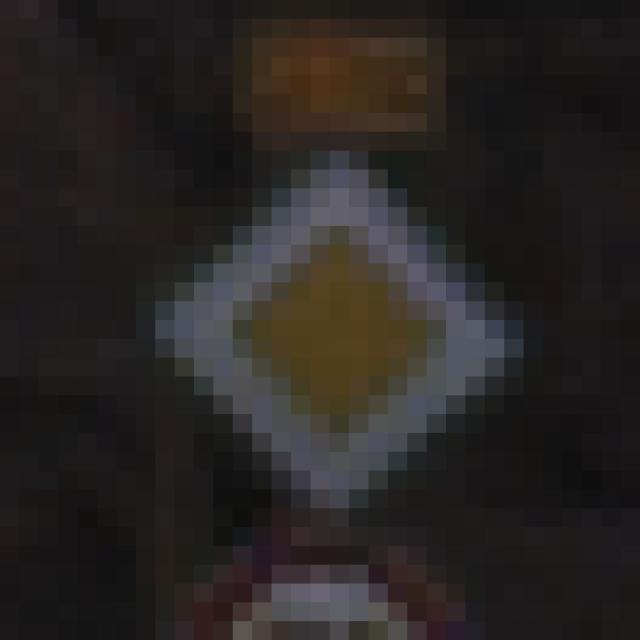Main Road: (98, 114, 544, 547)
